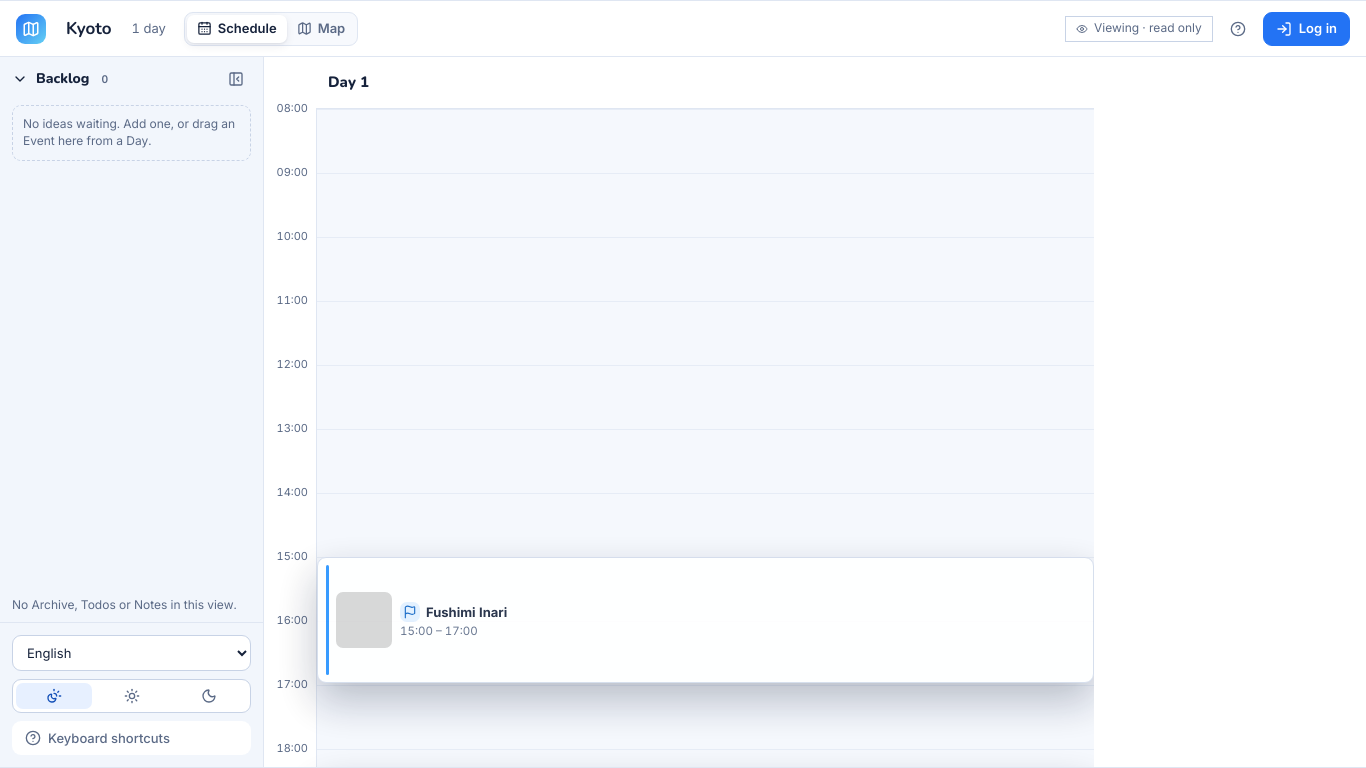
Test: an Event image seen by a Viewer › shows the place photo with its credit for an Event with a place and no upload, unless it was taken off
Click the text "Fushimi Inari": (467, 612) [426,604,507,620]
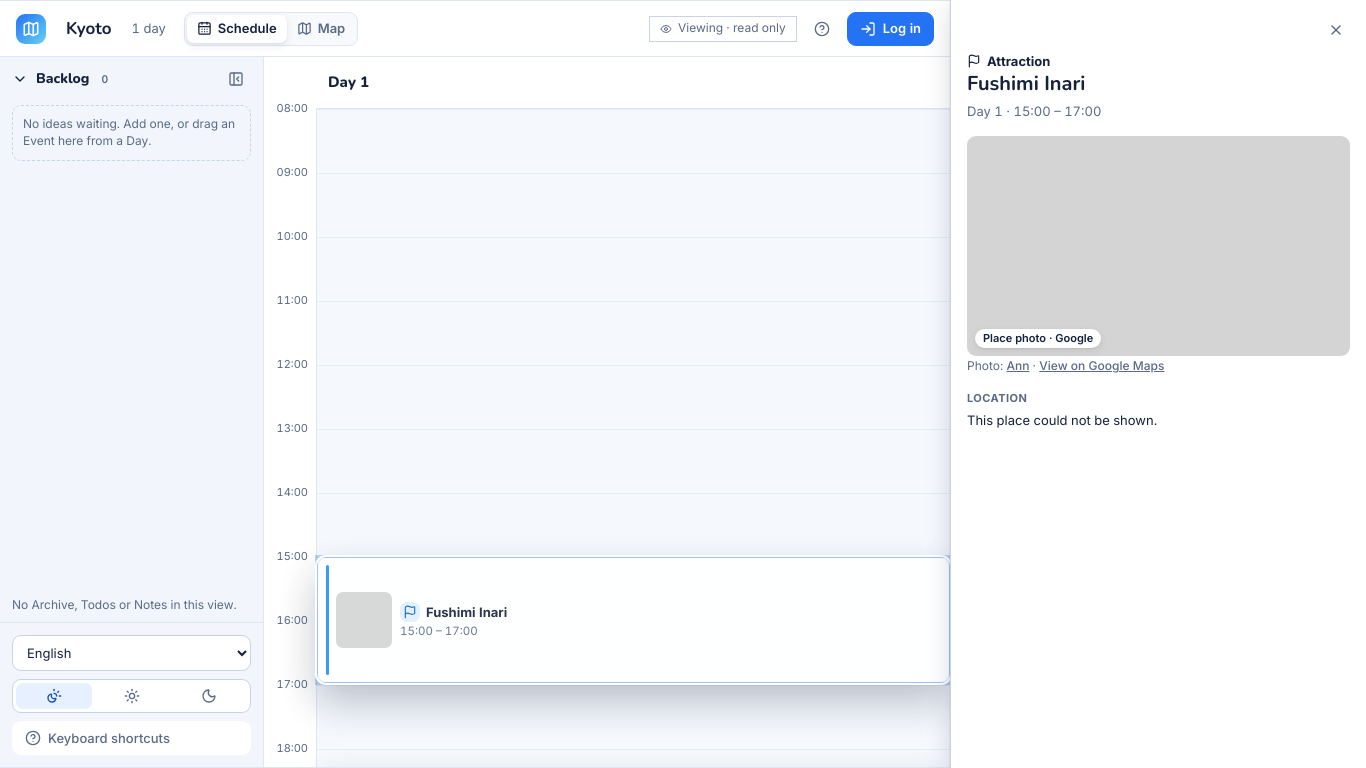
Now the text "Place photo · Google" is shown, box [975,329,1101,348]
Now the link "View on Google Maps" is shown, box [1039,358,1164,373]
